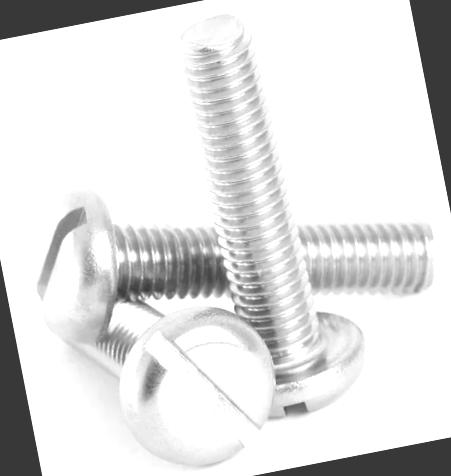screw: (111, 297, 286, 476)
